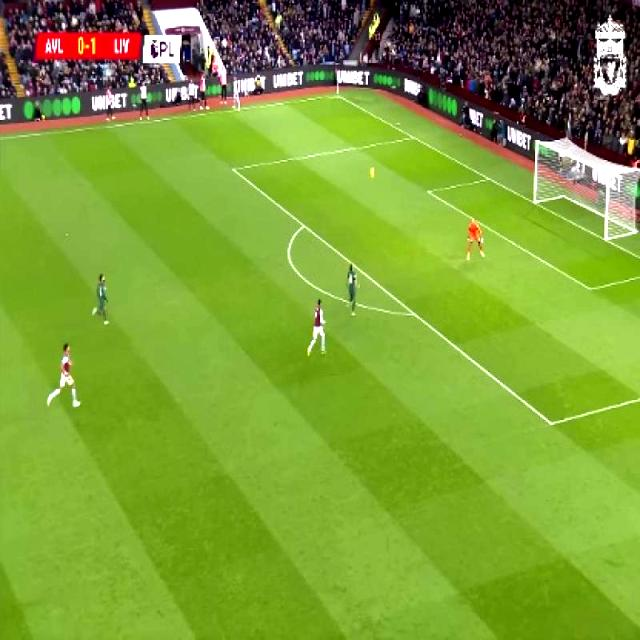bigarea_bottom_inner: (544, 414, 558, 431)
bigarea_top_inner: (229, 162, 239, 175)
bigarea_top_outter: (410, 132, 415, 142)
bottom_arc_area_intersection: (409, 308, 417, 320)
corner: (332, 92, 340, 98)
smallarea_bottom_inner: (584, 280, 598, 297)
smallarea_top_inner: (424, 186, 434, 196)
smallarea_top_outter: (484, 174, 492, 183)
top_arc_area_intersection: (300, 220, 306, 230)
